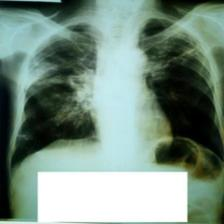tuberculosis: (5, 11, 224, 197)
